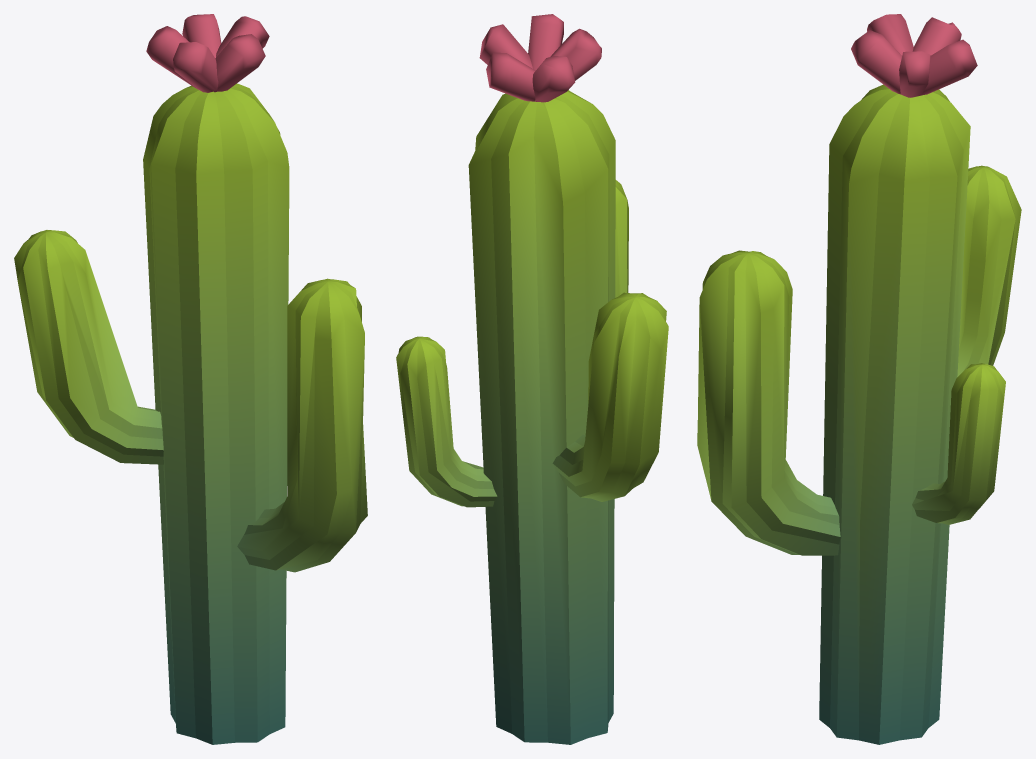
3 renders of one model, left to right at view 1: azimuth 30°, elevation 25°; view 2: azimuth 150°, elevation 25°; view 3: azimuth 270°, elevation 25°, orthographic. The views are drawn at different scales.
Parts seen in each view (by area): view 1: LOD 0_671c7c3c-1d38-5405-9914-5278f2c1c3b1; view 2: LOD 0_671c7c3c-1d38-5405-9914-5278f2c1c3b1; view 3: LOD 0_671c7c3c-1d38-5405-9914-5278f2c1c3b1.
Boxes of the visible parts, x1,y1,x2,y2 form: LOD 0_671c7c3c-1d38-5405-9914-5278f2c1c3b1: (14,14,367,744); LOD 0_671c7c3c-1d38-5405-9914-5278f2c1c3b1: (396,14,668,744); LOD 0_671c7c3c-1d38-5405-9914-5278f2c1c3b1: (697,14,1021,744).
Bounding box in the file's own units: 1.06 × 2.66 × 1.13.
